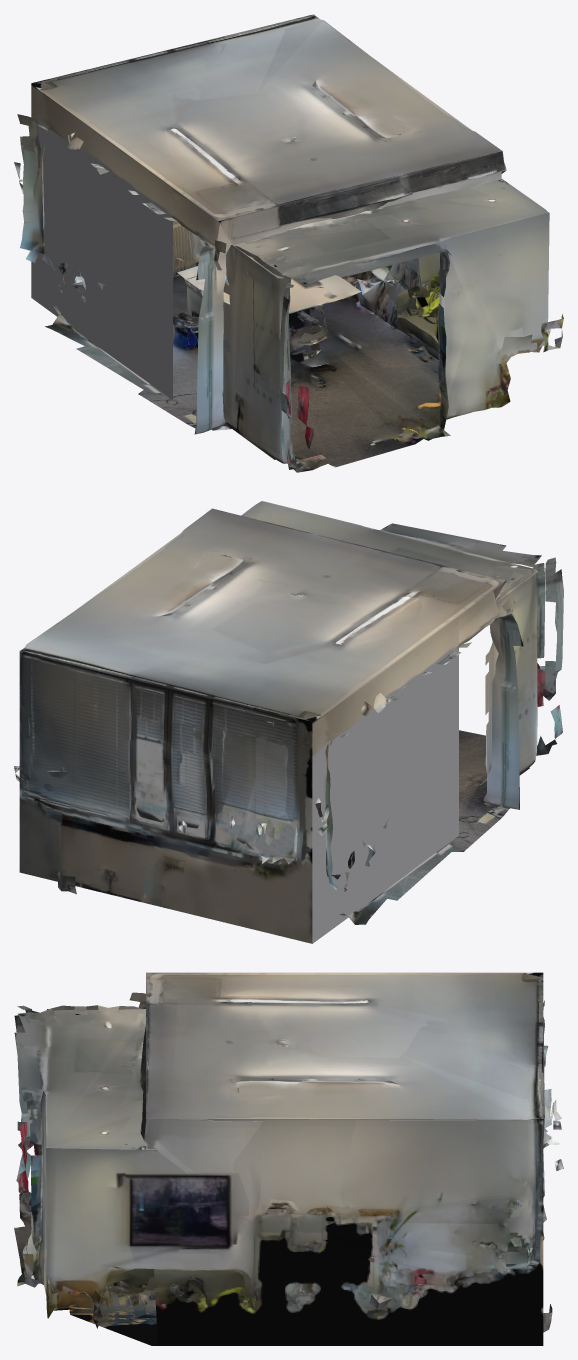
The model's file is Dean_room_3-IM.fbx.
The picture shows the model from 3 angles, top to bottom: view 1: azimuth 30°, elevation 25°; view 2: azimuth 150°, elevation 25°; view 3: azimuth 270°, elevation 25°; orthographic projection. The views are drawn at different scales.
Parts seen in each view (by area): view 1: Dean_room_3-IM; view 2: Dean_room_3-IM; view 3: Dean_room_3-IM.
Part boxes in pixels (x1,y1,x2,y2): Dean_room_3-IM: (14, 14, 563, 472); Dean_room_3-IM: (14, 501, 563, 943); Dean_room_3-IM: (14, 972, 563, 1345).
Bounding box in the file's own units: 394 × 272 × 563.
Materials: 1 (1 with a texture image).
